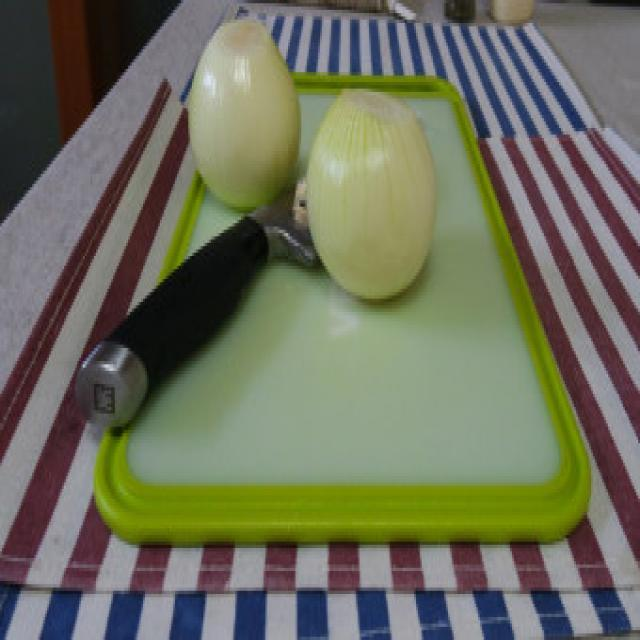Onion: (318, 84, 439, 304), (191, 12, 305, 200)
